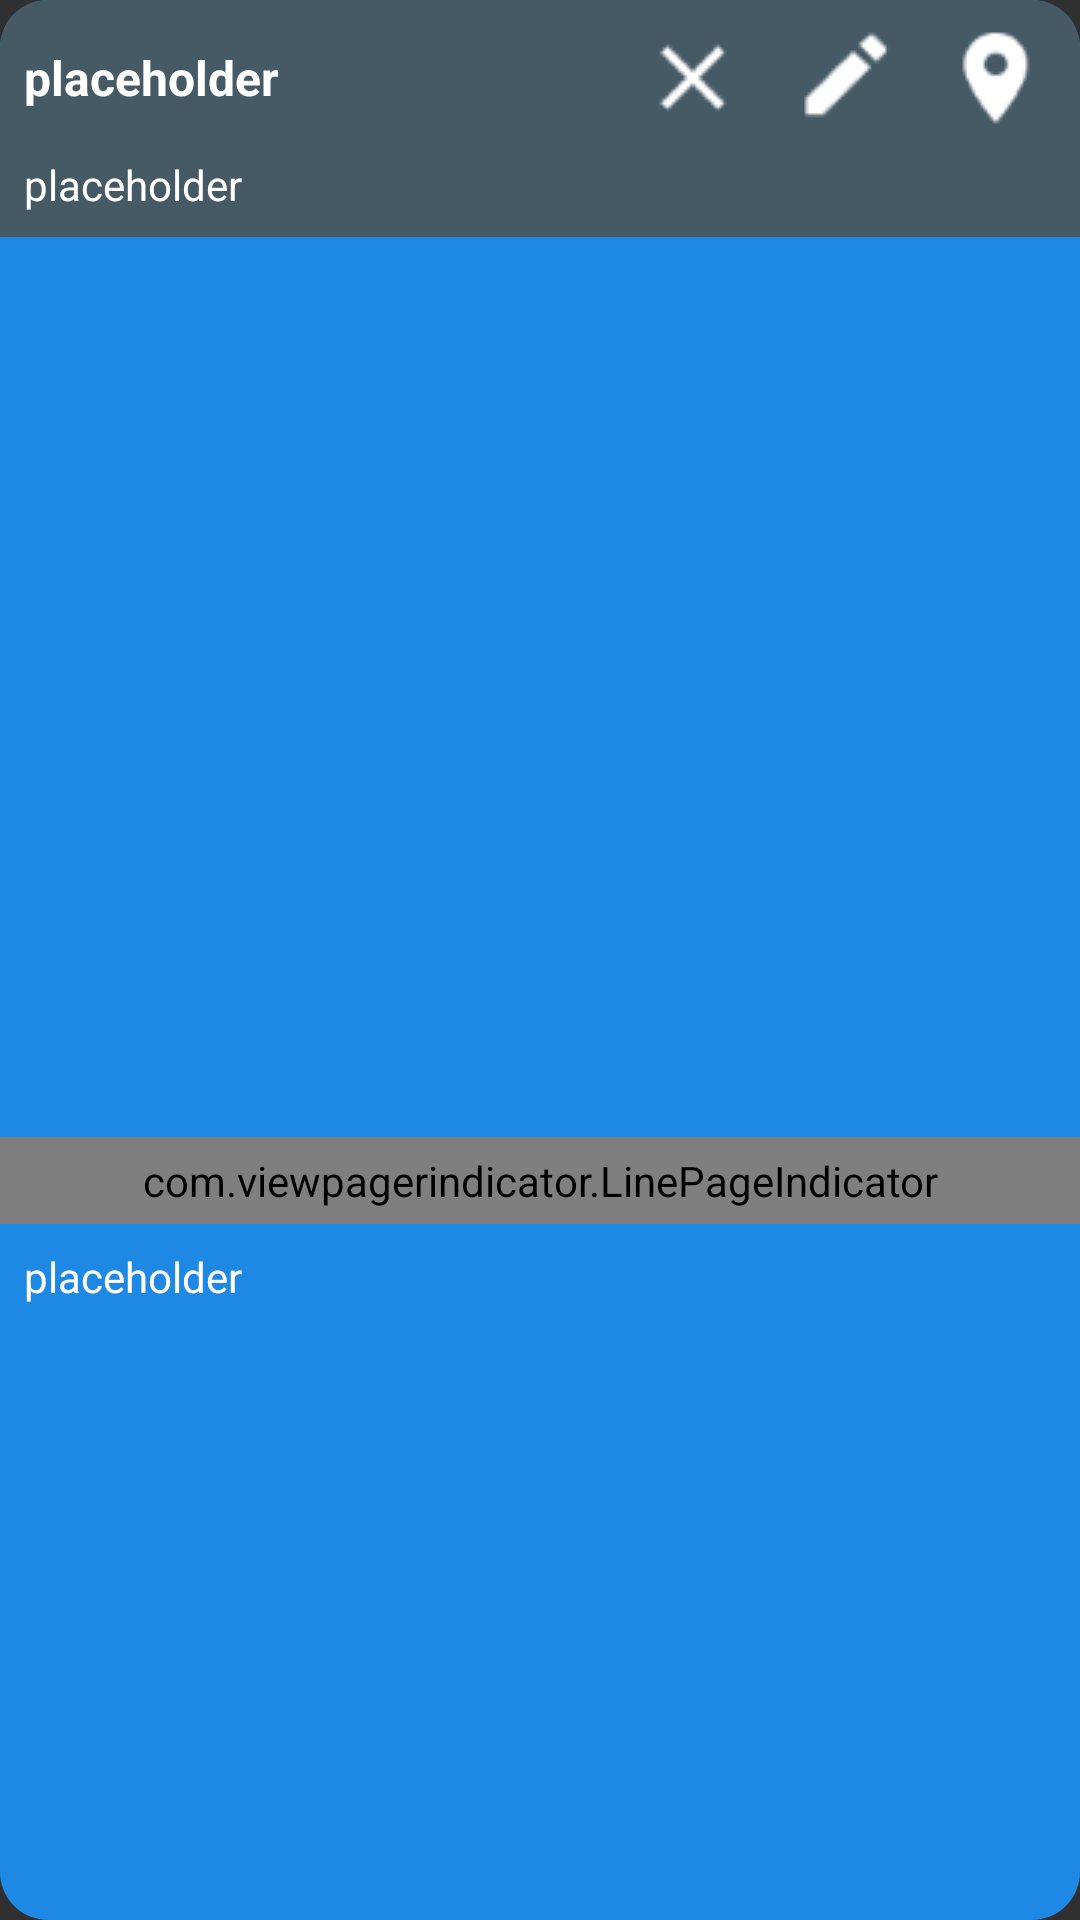

Named icons in this screenshot (1080×1920) and their centers, [x,y]:
clear: [692,77]
location on: [995,78]
mode edit: [845,75]
